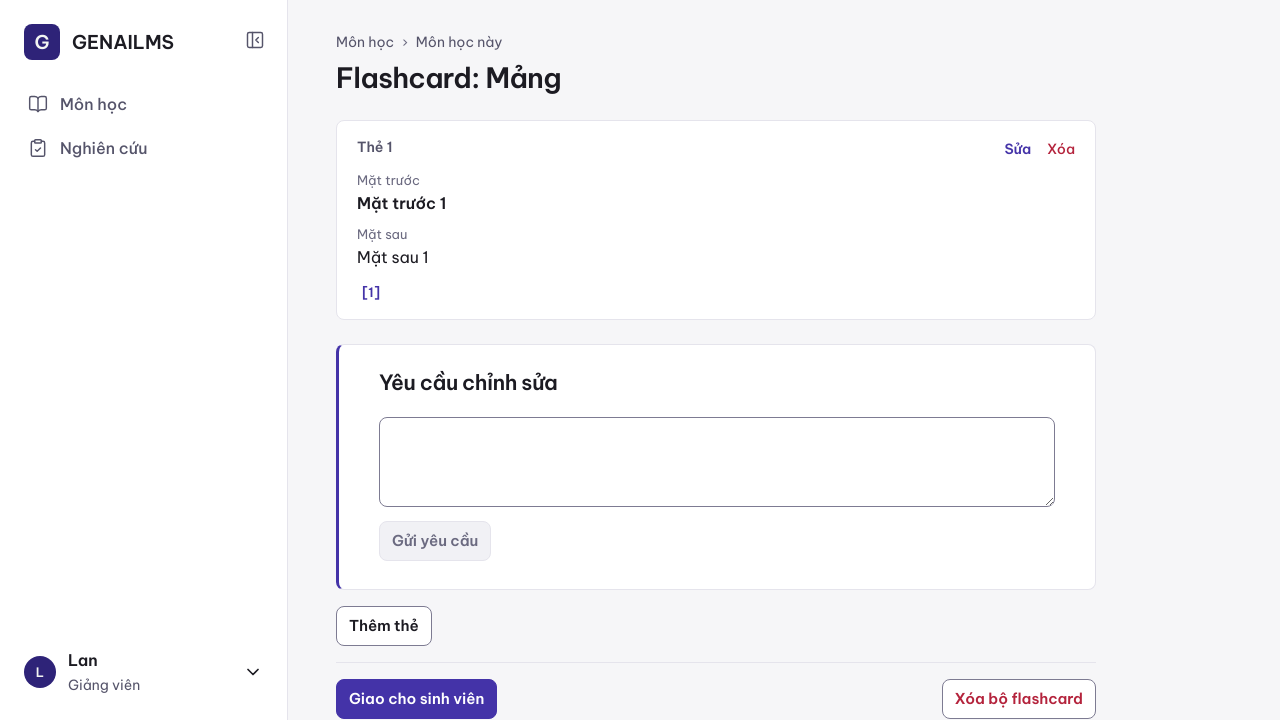
it: FlashcardEditorPage › publishes only when no card is open for editing, and stops publishing when clicked again
Click the button "Sửa" at point(1018, 149), box left=1004, top=139, right=1031, bottom=159
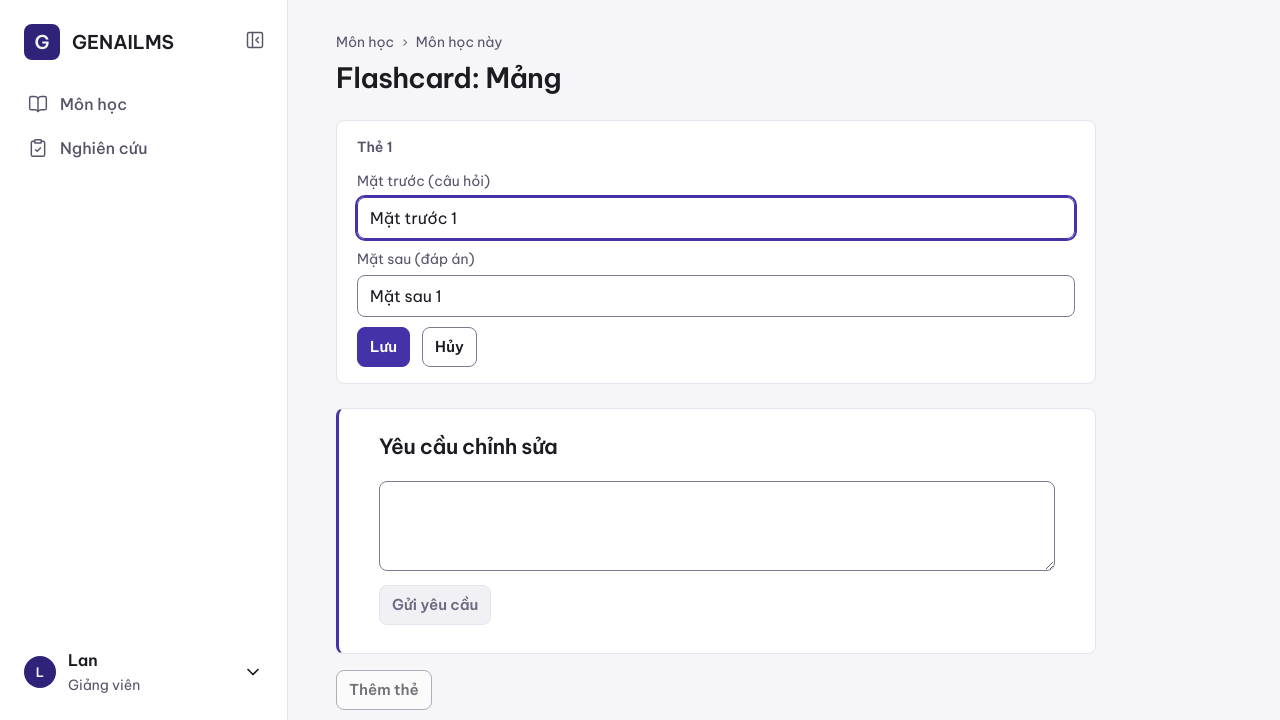
Click the button "Hủy" at point(449, 347), box left=422, top=327, right=477, bottom=367
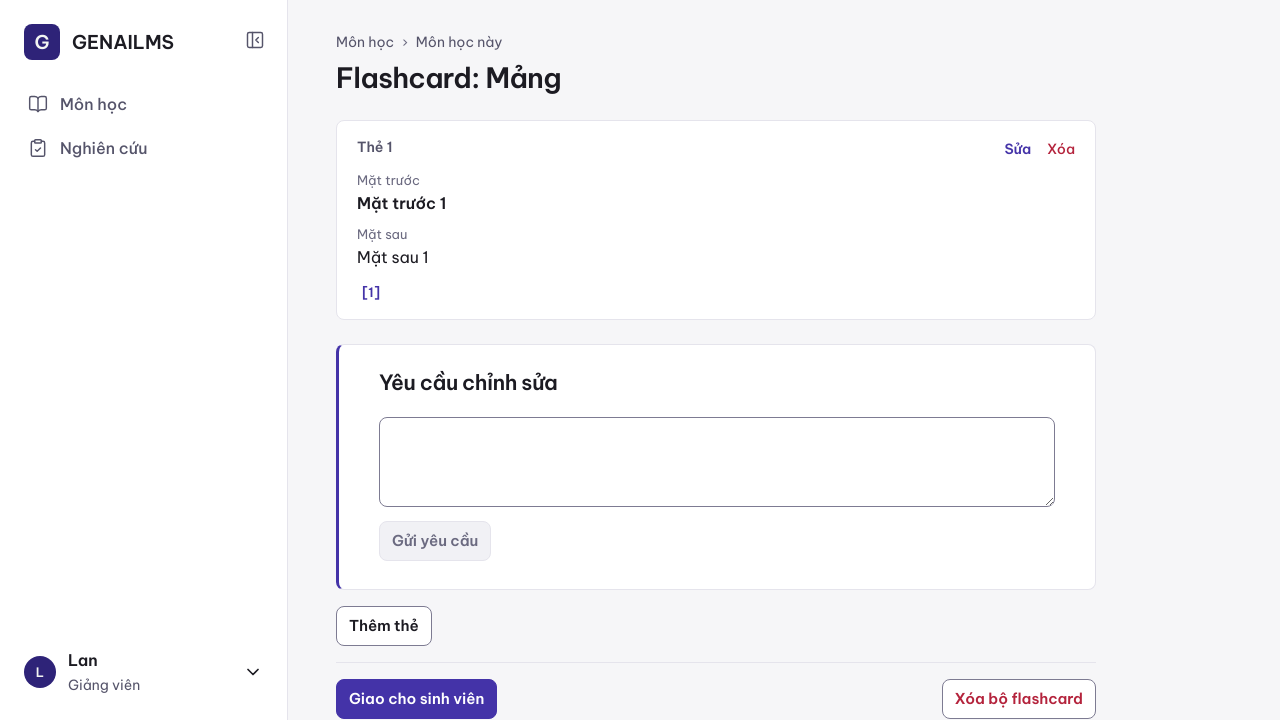
Click the button "Giao cho sinh viên" at point(417, 699), box left=336, top=679, right=497, bottom=719
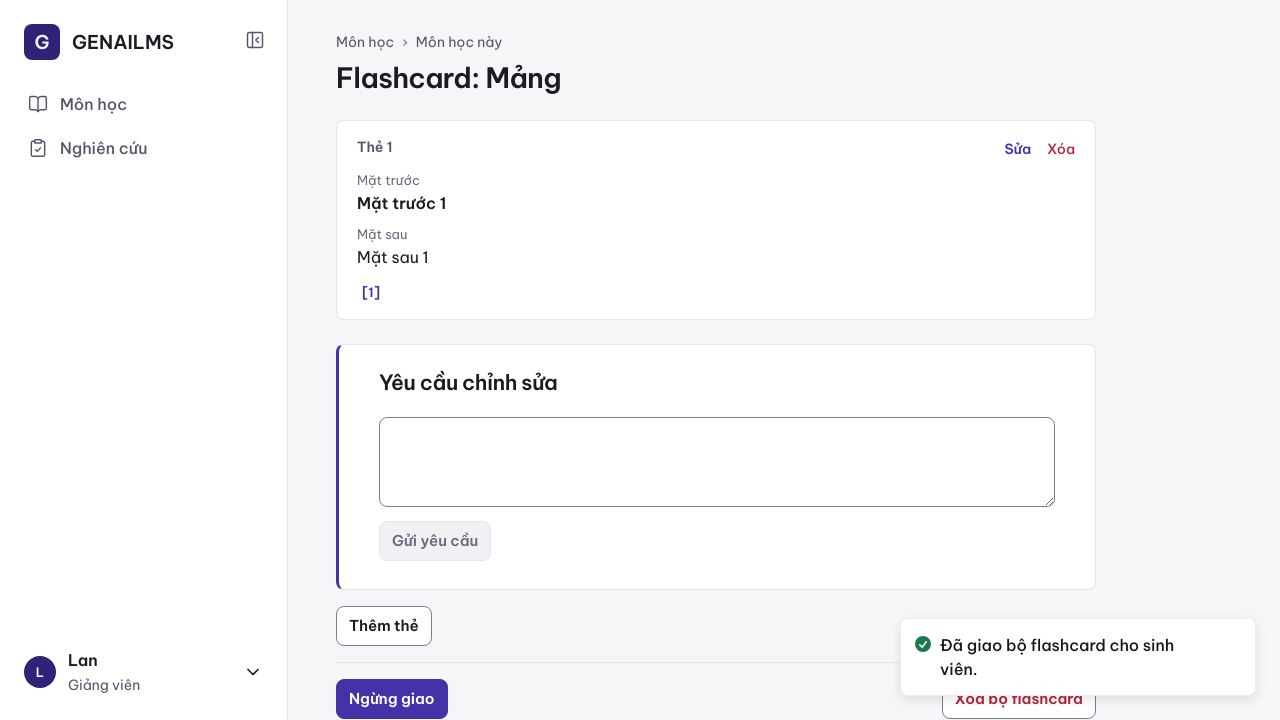
Click the button "Ngừng giao" at point(392, 699), box left=336, top=679, right=448, bottom=719
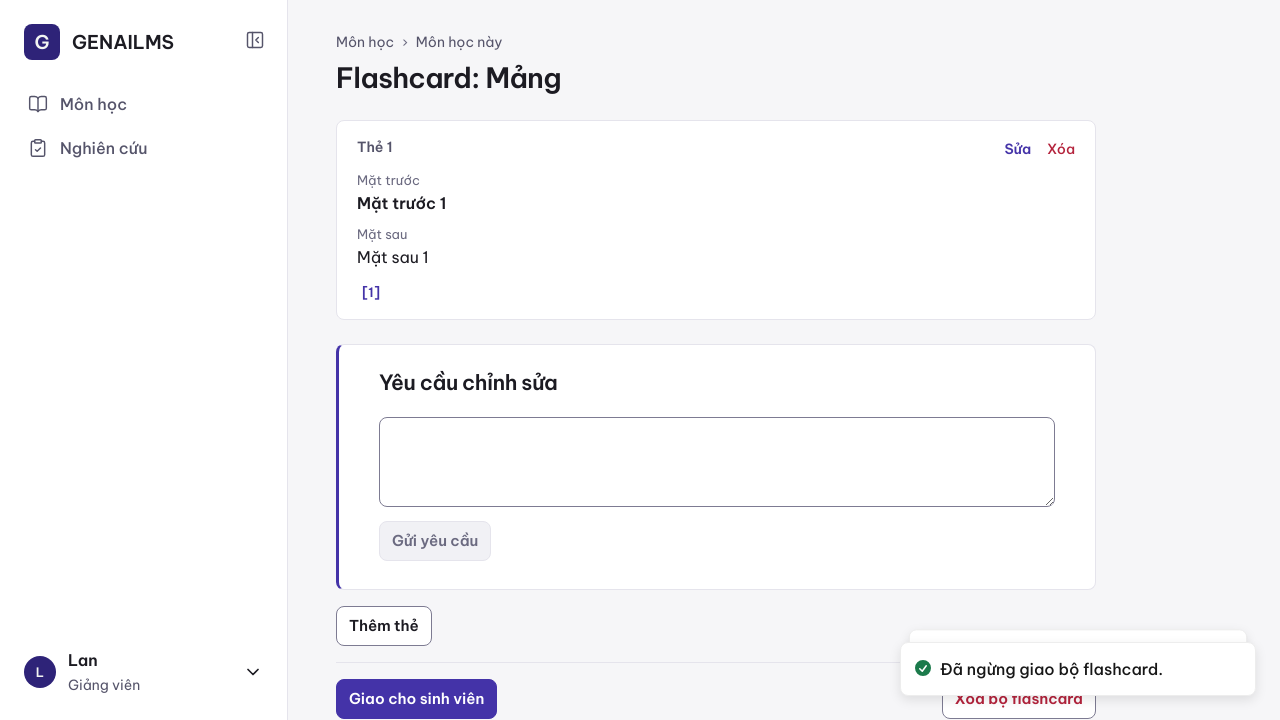
Now the button "Giao cho sinh viên" is shown, box left=336, top=679, right=497, bottom=719
